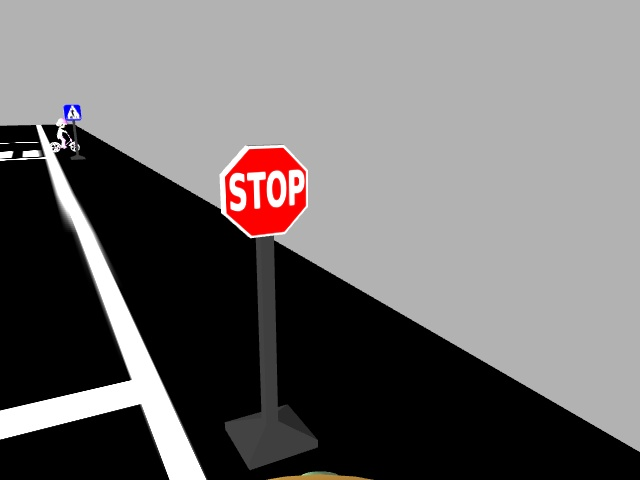Stop: (215, 143, 313, 239)
